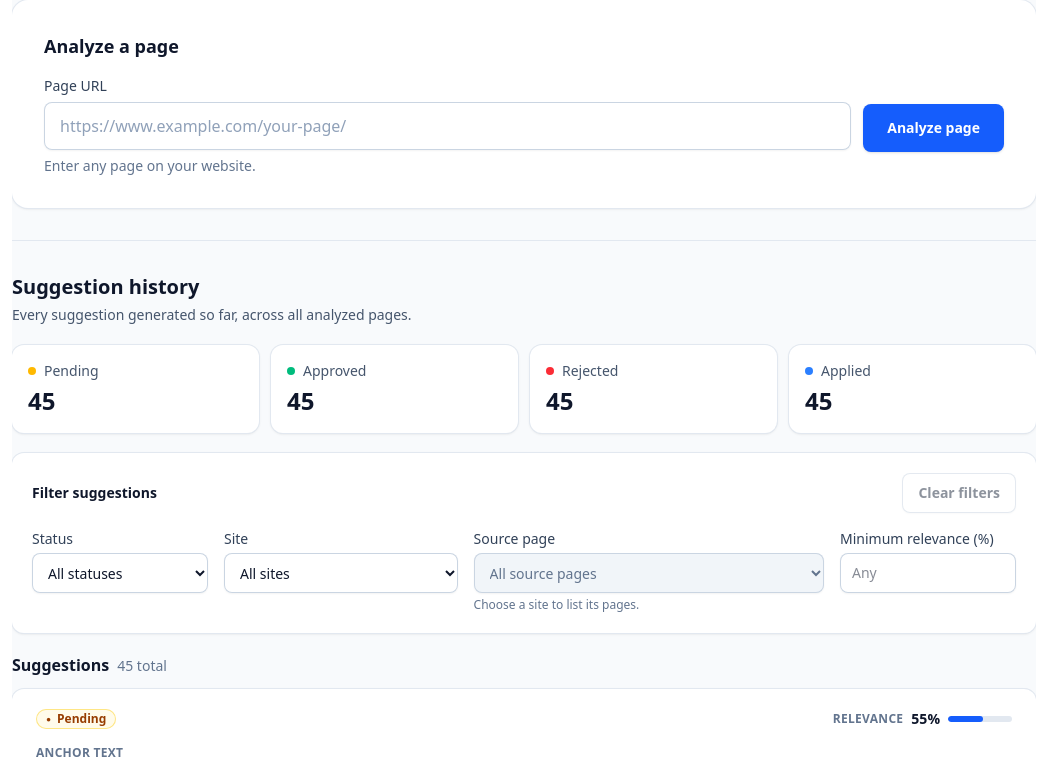
Test case: InterlinkPage › minimum relevance score filter › rejects values outside 0-100 without querying
Type "150" into the number field labelled "Minimum relevance (%)".
click(928, 573); type("150")  # box [840,553,1016,593]
Then press Enter
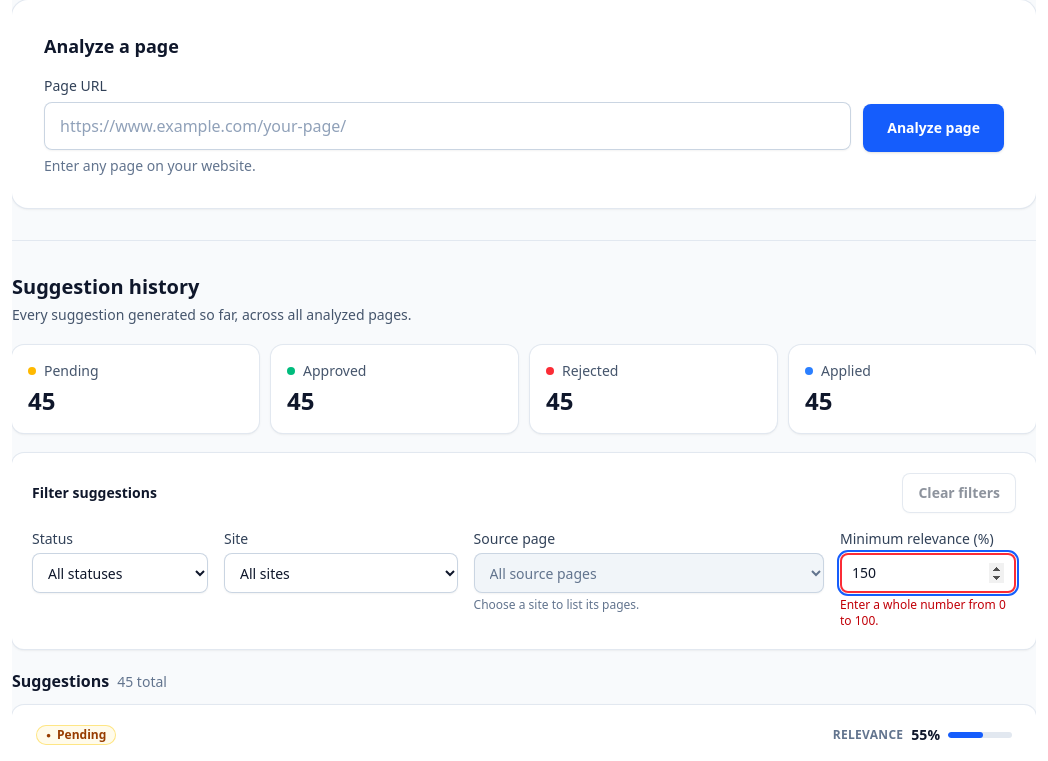
Expected: the text "Enter a whole number from 0 to 100." is shown, [840,597,1016,629]
